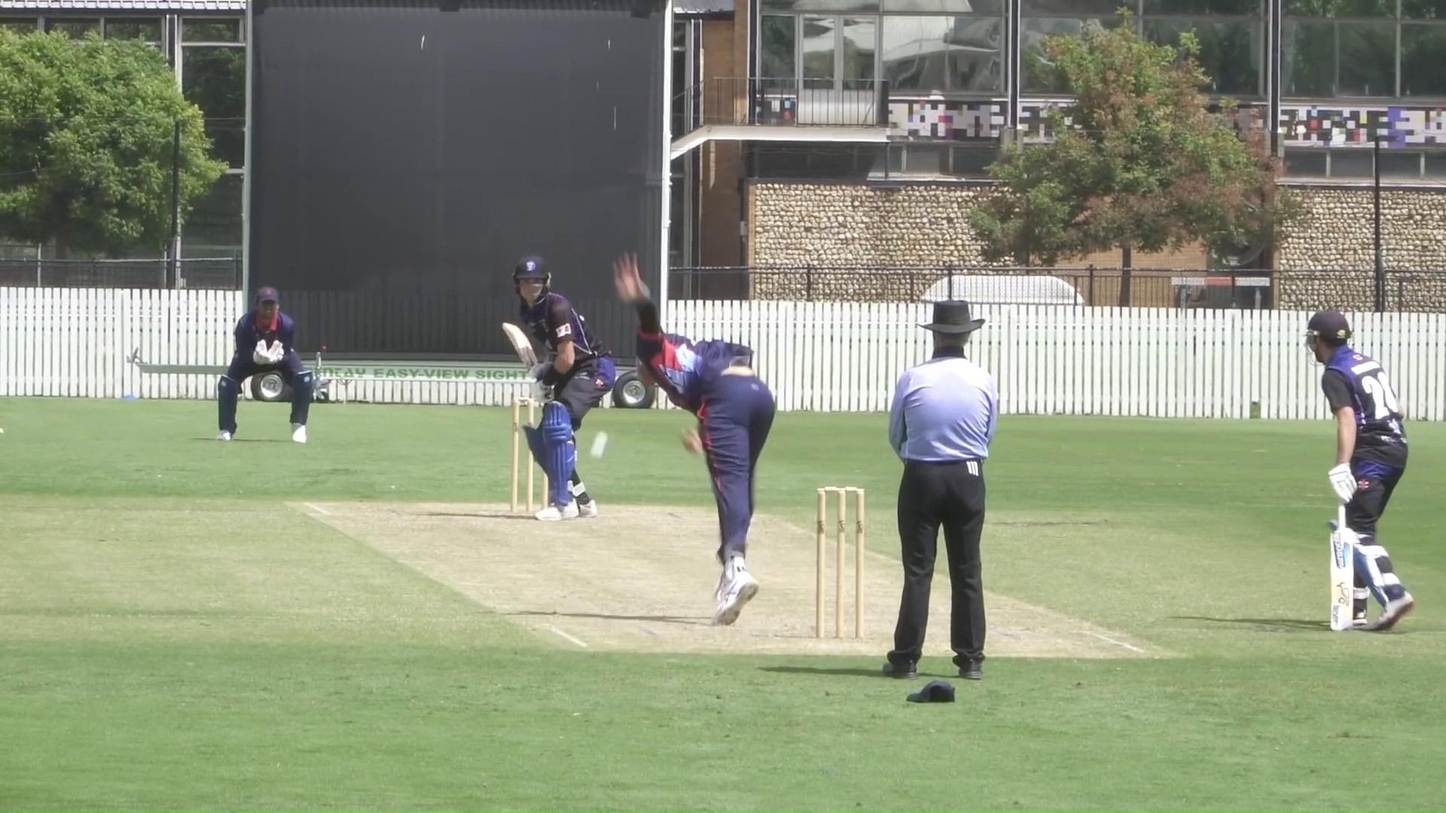ball: (587, 430, 610, 458)
